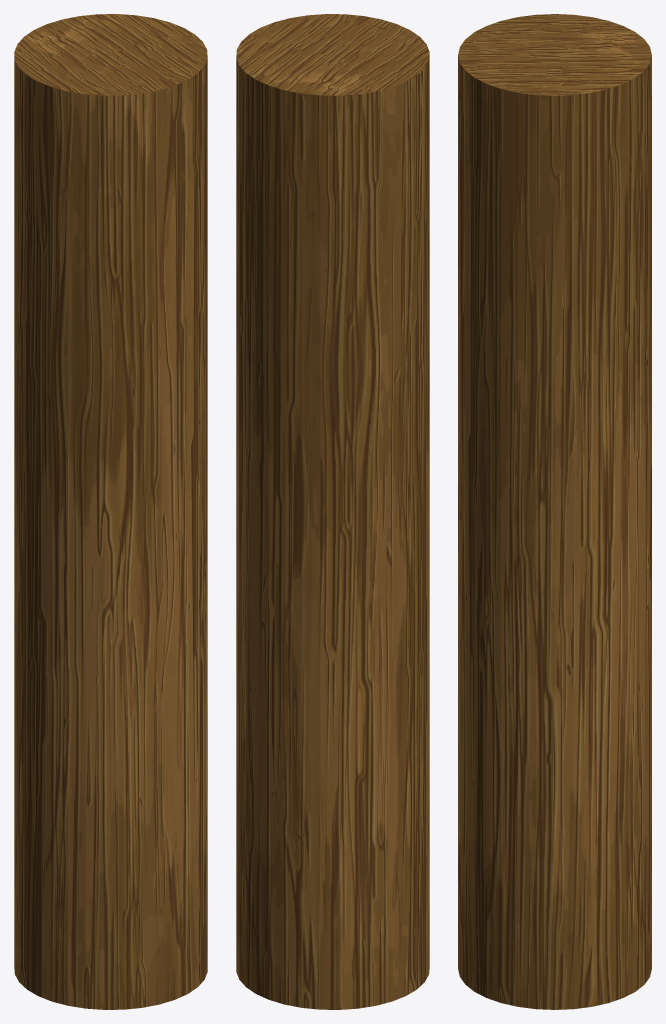
The picture shows the model from 3 angles, left to right: view 1: azimuth 30°, elevation 25°; view 2: azimuth 150°, elevation 25°; view 3: azimuth 270°, elevation 25°; orthographic projection.
Visible parts, largest first — view 1: Cylinder; view 2: Cylinder; view 3: Cylinder.
Boxes of the visible parts, left/top/right/bottom form: Cylinder: left=14, top=14, right=207, bottom=1009; Cylinder: left=236, top=14, right=429, bottom=1009; Cylinder: left=458, top=14, right=651, bottom=1009.
Size of the model in its own units: 200 by 1041 by 200.
Materials: 1 (1 with a texture image).
